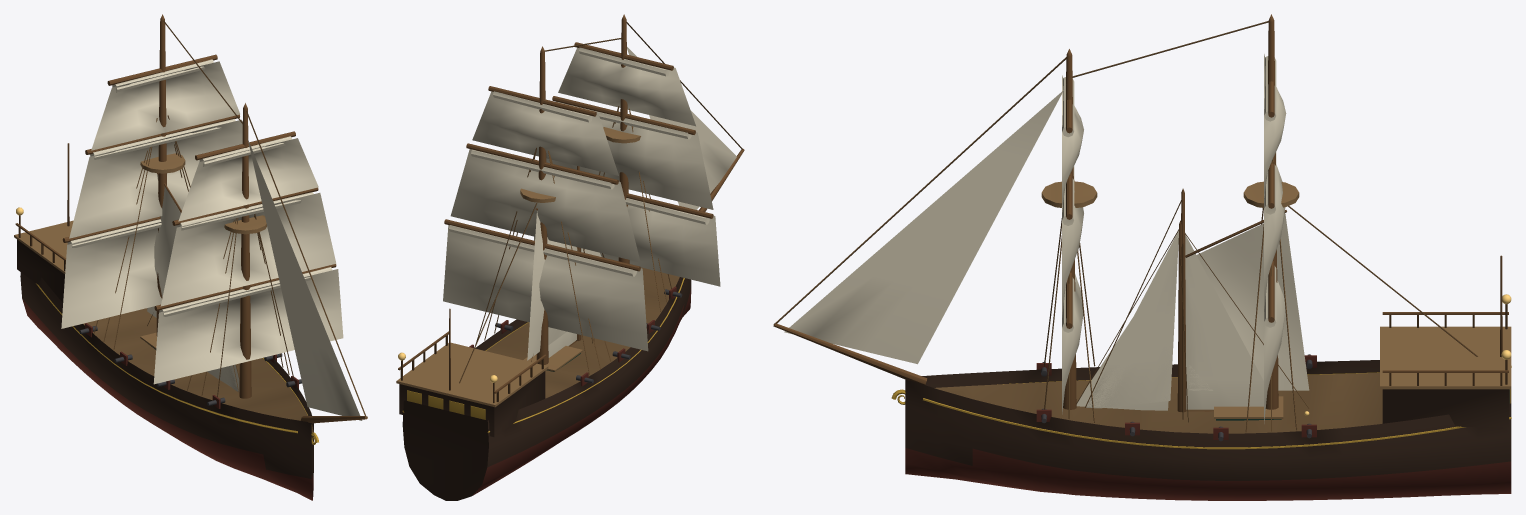
Rendered from barcos.glb.
3 renders of one model, left to right at view 1: azimuth 30°, elevation 25°; view 2: azimuth 150°, elevation 25°; view 3: azimuth 270°, elevation 25°, orthographic. The views are drawn at different scales.
Visible parts, largest first — view 1: bergantin_velas_casco, bergantin_casco, balandra_casco; view 2: bergantin_velas_casco, bergantin_casco, balandra_casco, golondrina_mayor; view 3: bergantin_casco, bergantin_velas_casco, balandra_casco, golondrina_mayor, golondrina_casco.
Boxes of the visible parts, box(x1,y1,x2,y2) form: bergantin_velas_casco: box(61, 61, 362, 420); bergantin_casco: box(14, 14, 367, 500); balandra_casco: box(140, 173, 239, 392); bergantin_velas_casco: box(443, 47, 736, 351); bergantin_casco: box(396, 14, 744, 500); balandra_casco: box(523, 166, 603, 371); golondrina_mayor: box(548, 247, 577, 357); bergantin_casco: box(773, 14, 1511, 500); bergantin_velas_casco: box(784, 54, 1286, 423); balandra_casco: box(1085, 188, 1309, 420); golondrina_mayor: box(1185, 234, 1263, 411); golondrina_casco: box(1076, 220, 1309, 422).
Size of the model in its own units: 11.64 by 20.8 by 29.24.
